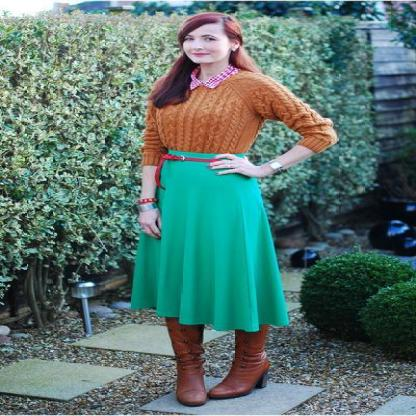jacket: (141, 78, 337, 174)
shirt: (190, 68, 236, 89)
shoe: (165, 317, 283, 406)
skirt: (125, 153, 288, 332)
